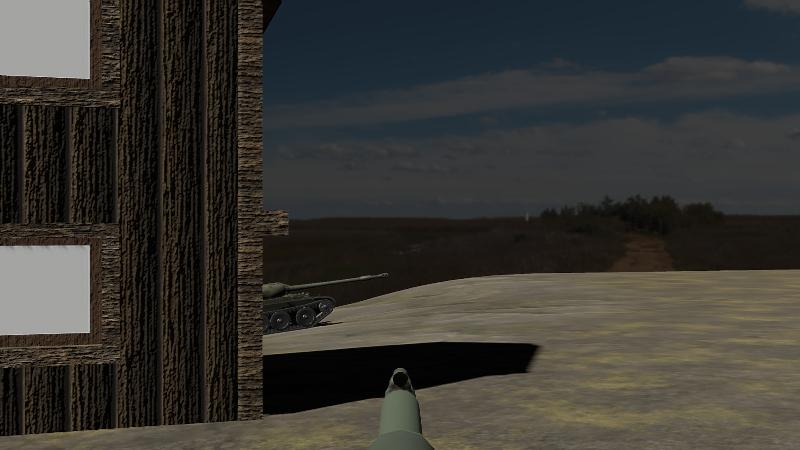House: (0, 0, 301, 450)
Tank: (262, 271, 393, 337), (262, 272, 391, 336)
